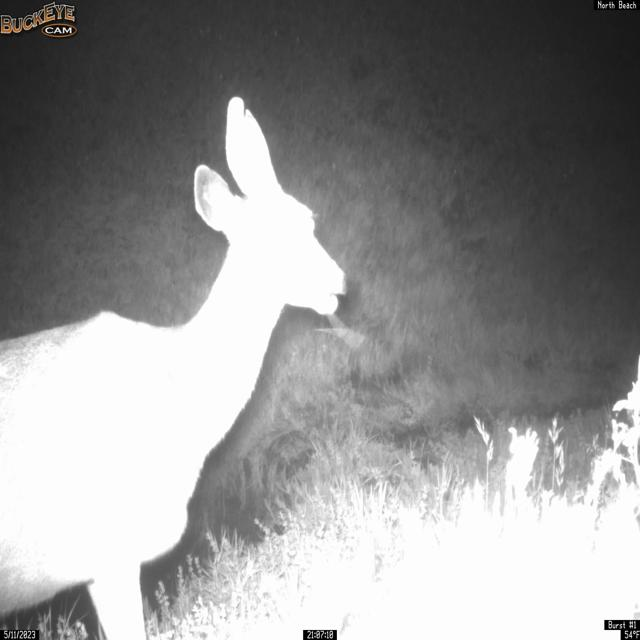deer: (0, 95, 348, 640)
